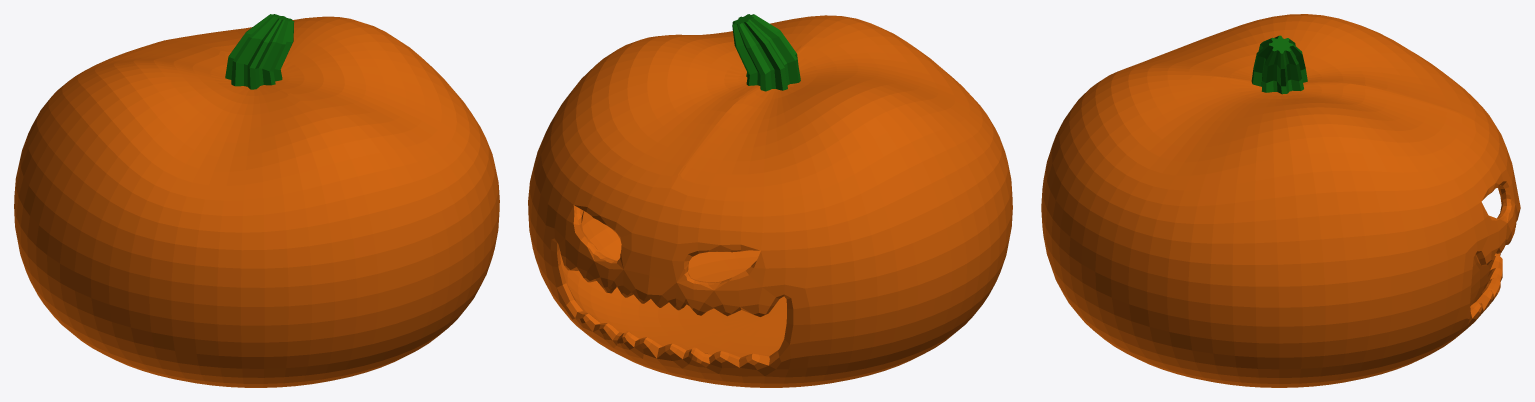
File: Pumkin.fbx
3 renders of one model, left to right at view 1: azimuth 30°, elevation 25°; view 2: azimuth 150°, elevation 25°; view 3: azimuth 270°, elevation 25°, orthographic. The views are drawn at different scales.
Visible parts, largest first — view 1: Pumpkin, Cylinder.022; view 2: Pumpkin, Cylinder.022; view 3: Pumpkin, Cylinder.022.
Part boxes in pixels (bbox=[...]): Pumpkin: bbox=[14, 16, 499, 387]; Cylinder.022: bbox=[225, 14, 294, 89]; Pumpkin: bbox=[528, 15, 1012, 387]; Cylinder.022: bbox=[732, 14, 800, 91]; Pumpkin: bbox=[1041, 14, 1520, 387]; Cylinder.022: bbox=[1251, 35, 1307, 94].
Bounding box in the file's own units: 197 × 139 × 199.
